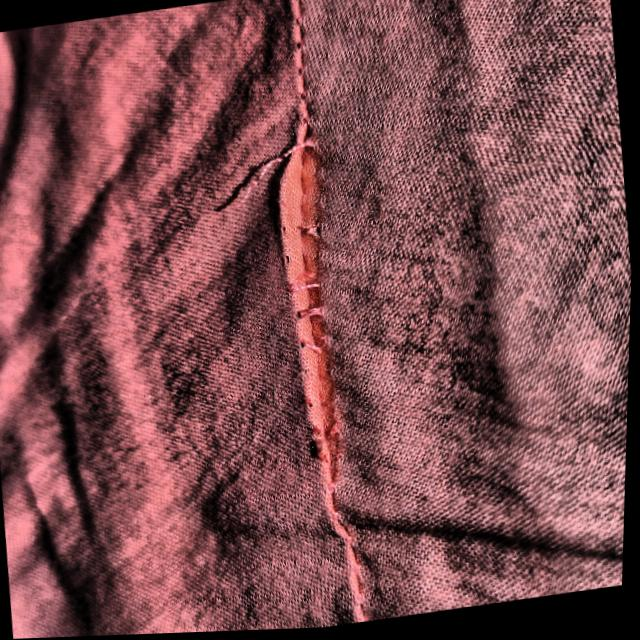seam: (191, 115, 400, 492)
